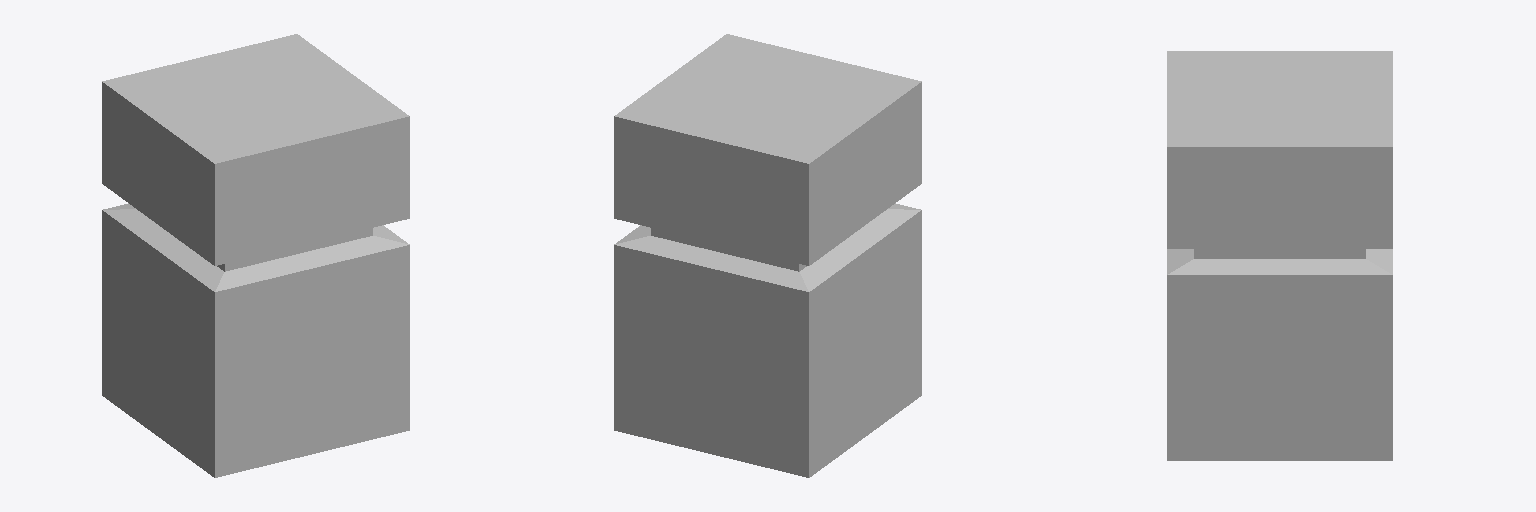
File: Light_Square_Short_Solid.obj
3 views of the same model, side by side, from view 1: azimuth 30°, elevation 25°; view 2: azimuth 150°, elevation 25°; view 3: azimuth 270°, elevation 25° (orthographic).
Visible parts, largest first — view 1: Light_Square_Short_Solid; view 2: Light_Square_Short_Solid; view 3: Light_Square_Short_Solid.
Boxes of the visible parts, box(x1,y1,x2,y2) form: Light_Square_Short_Solid: box(102, 34, 409, 477); Light_Square_Short_Solid: box(614, 34, 921, 477); Light_Square_Short_Solid: box(1167, 51, 1392, 460).
Size of the model in its own units: 0.65 by 0.9992 by 0.65.